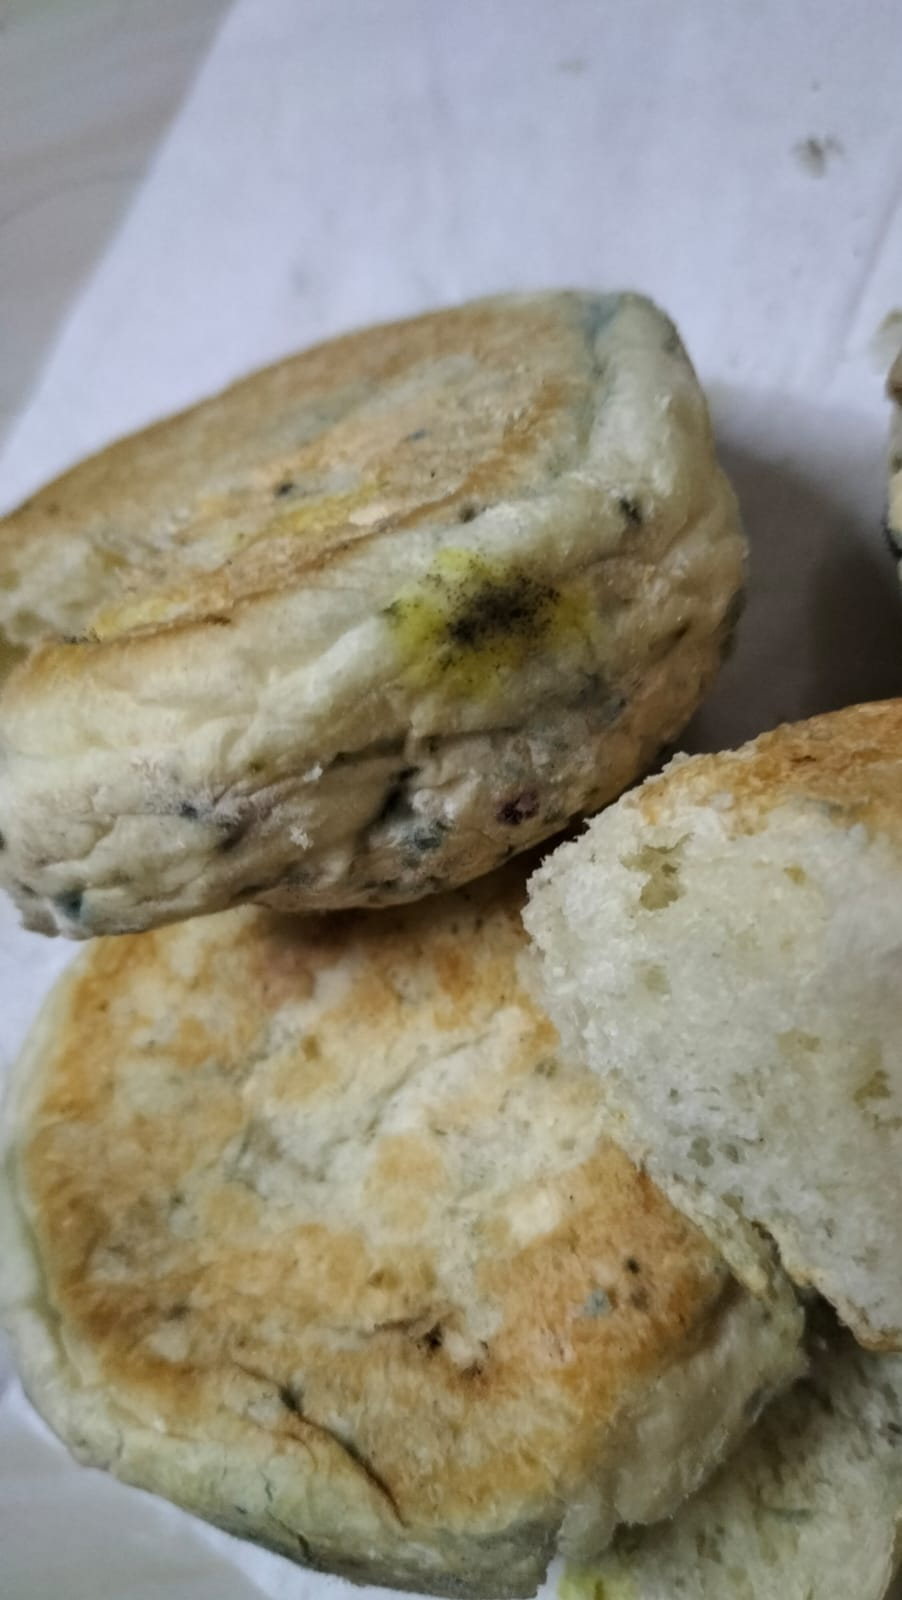mold_bread: (381, 558, 597, 699), (491, 737, 586, 853), (148, 763, 255, 862), (363, 791, 465, 889), (32, 864, 102, 946), (566, 1276, 630, 1327), (606, 478, 653, 545)
